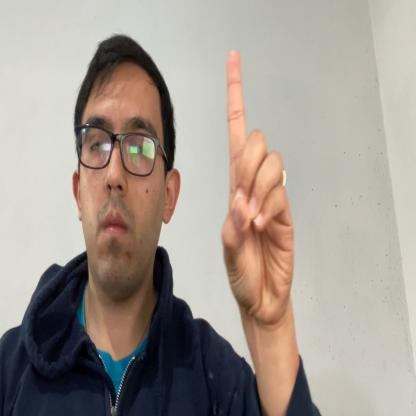D: (221, 49, 295, 327)
